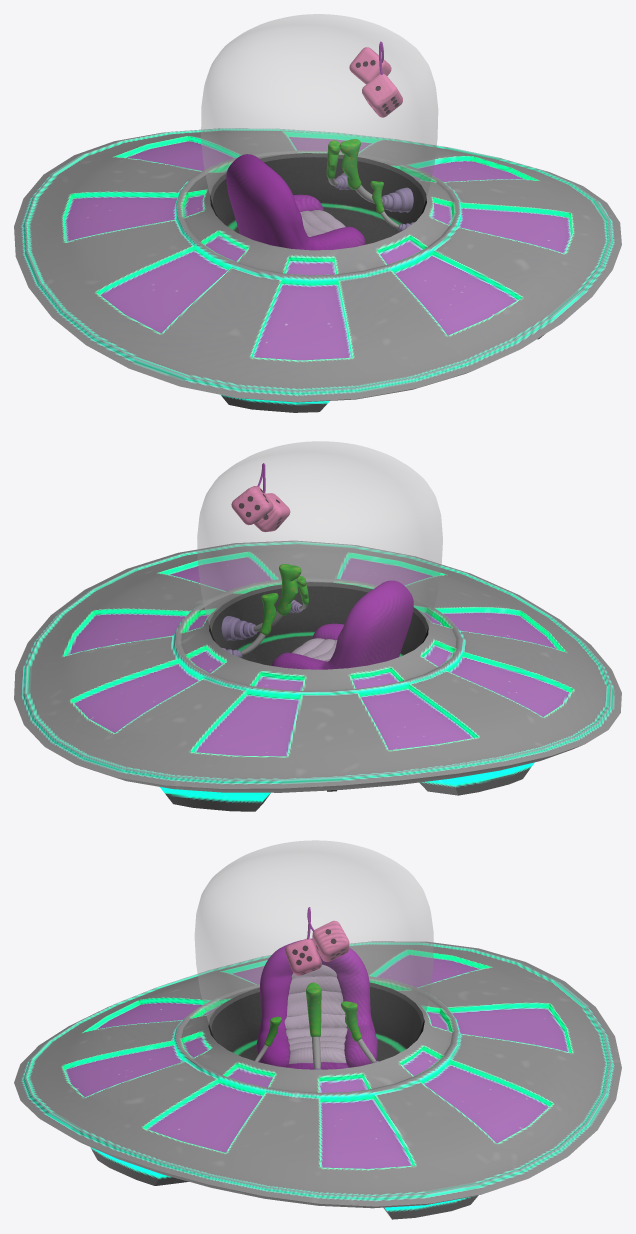
File: UFO.glb
3 renders of one model, top to bottom at view 1: azimuth 30°, elevation 25°; view 2: azimuth 150°, elevation 25°; view 3: azimuth 270°, elevation 25°, orthographic.
Visible parts, largest first — view 1: Saucer; view 2: Saucer; view 3: Saucer.
Part boxes in pixels (x1=…): Saucer: x1=14, y1=14, x2=621, y2=412; Saucer: x1=14, y1=441, x2=621, y2=811; Saucer: x1=14, y1=840, x2=621, y2=1219.
Bounding box in the file's own units: 0.1456 × 0.0768 × 0.1456.
2 materials, 1 textured.
